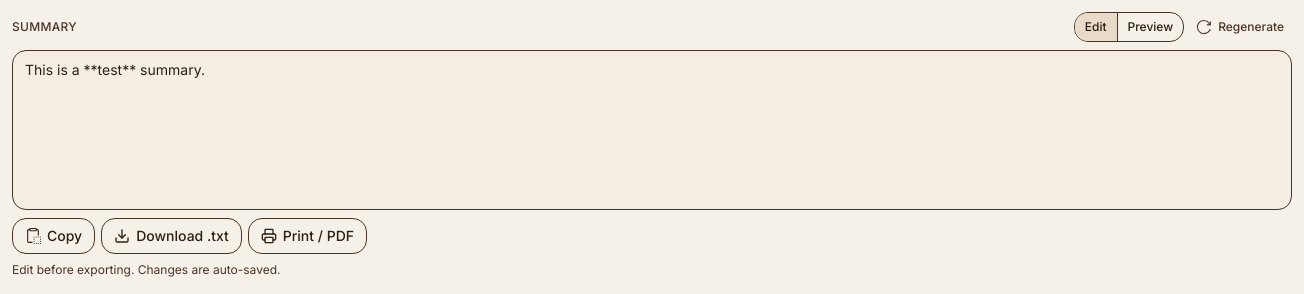
Test case: SummaryOutput › switches back to edit mode from preview
Click the button "Preview": (1150, 27) [1116, 13, 1183, 41]
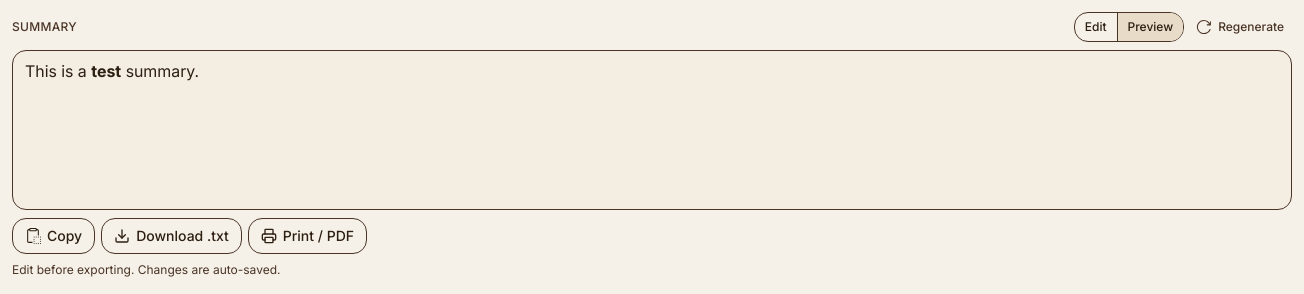
Click the button "Edit": (1096, 27) [1075, 13, 1117, 41]
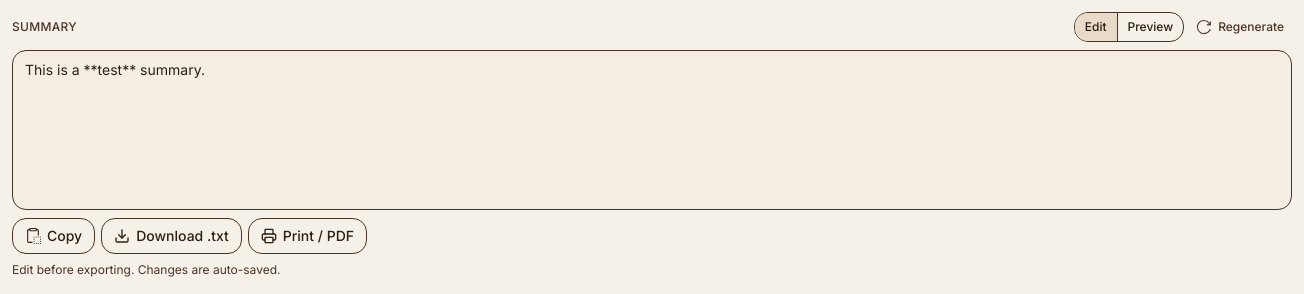
Expected: the text box is shown, [12, 50, 1292, 210]
